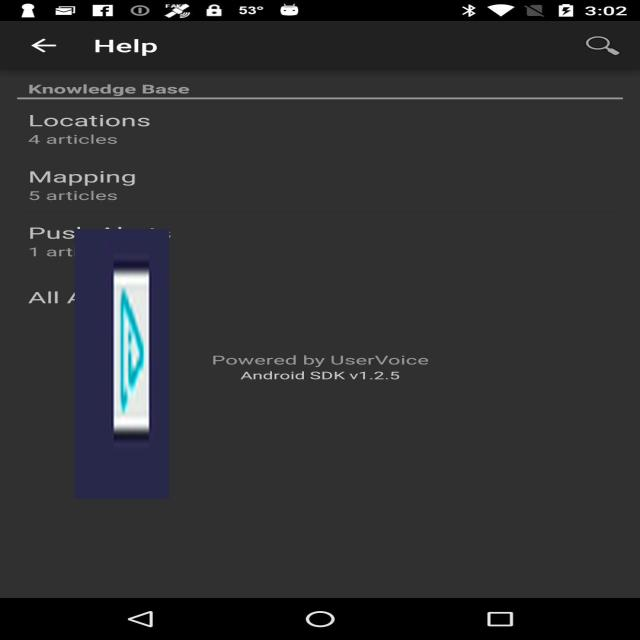sneaking: (74, 229, 170, 499)
